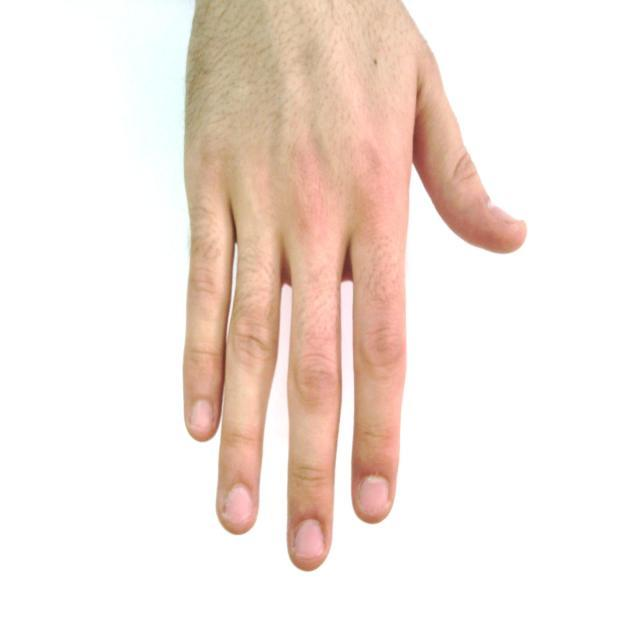Fingernail: (359, 477, 388, 517), (225, 485, 253, 524), (295, 520, 324, 557), (192, 401, 212, 431), (492, 206, 520, 223)
